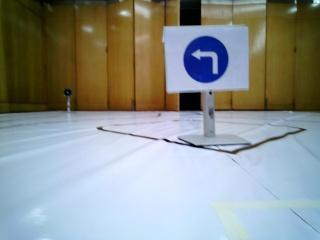left: (168, 24, 245, 85)
